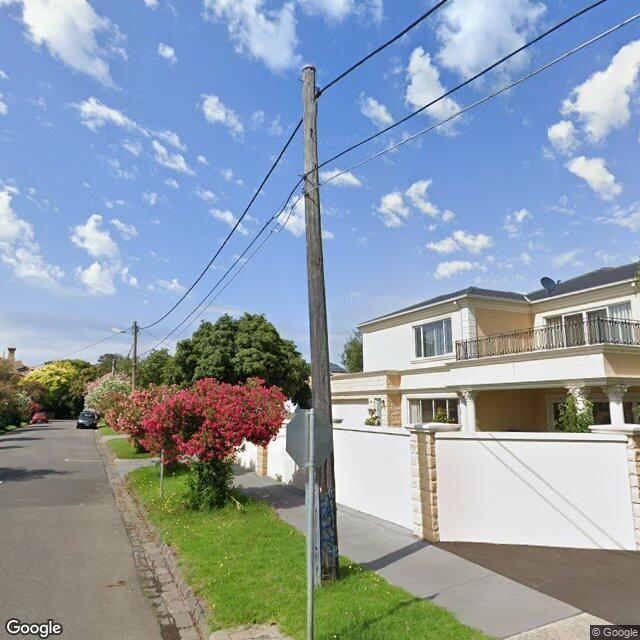streetlight: (110, 326, 134, 336)
timber-pole: (301, 64, 340, 584), (131, 321, 137, 389)
